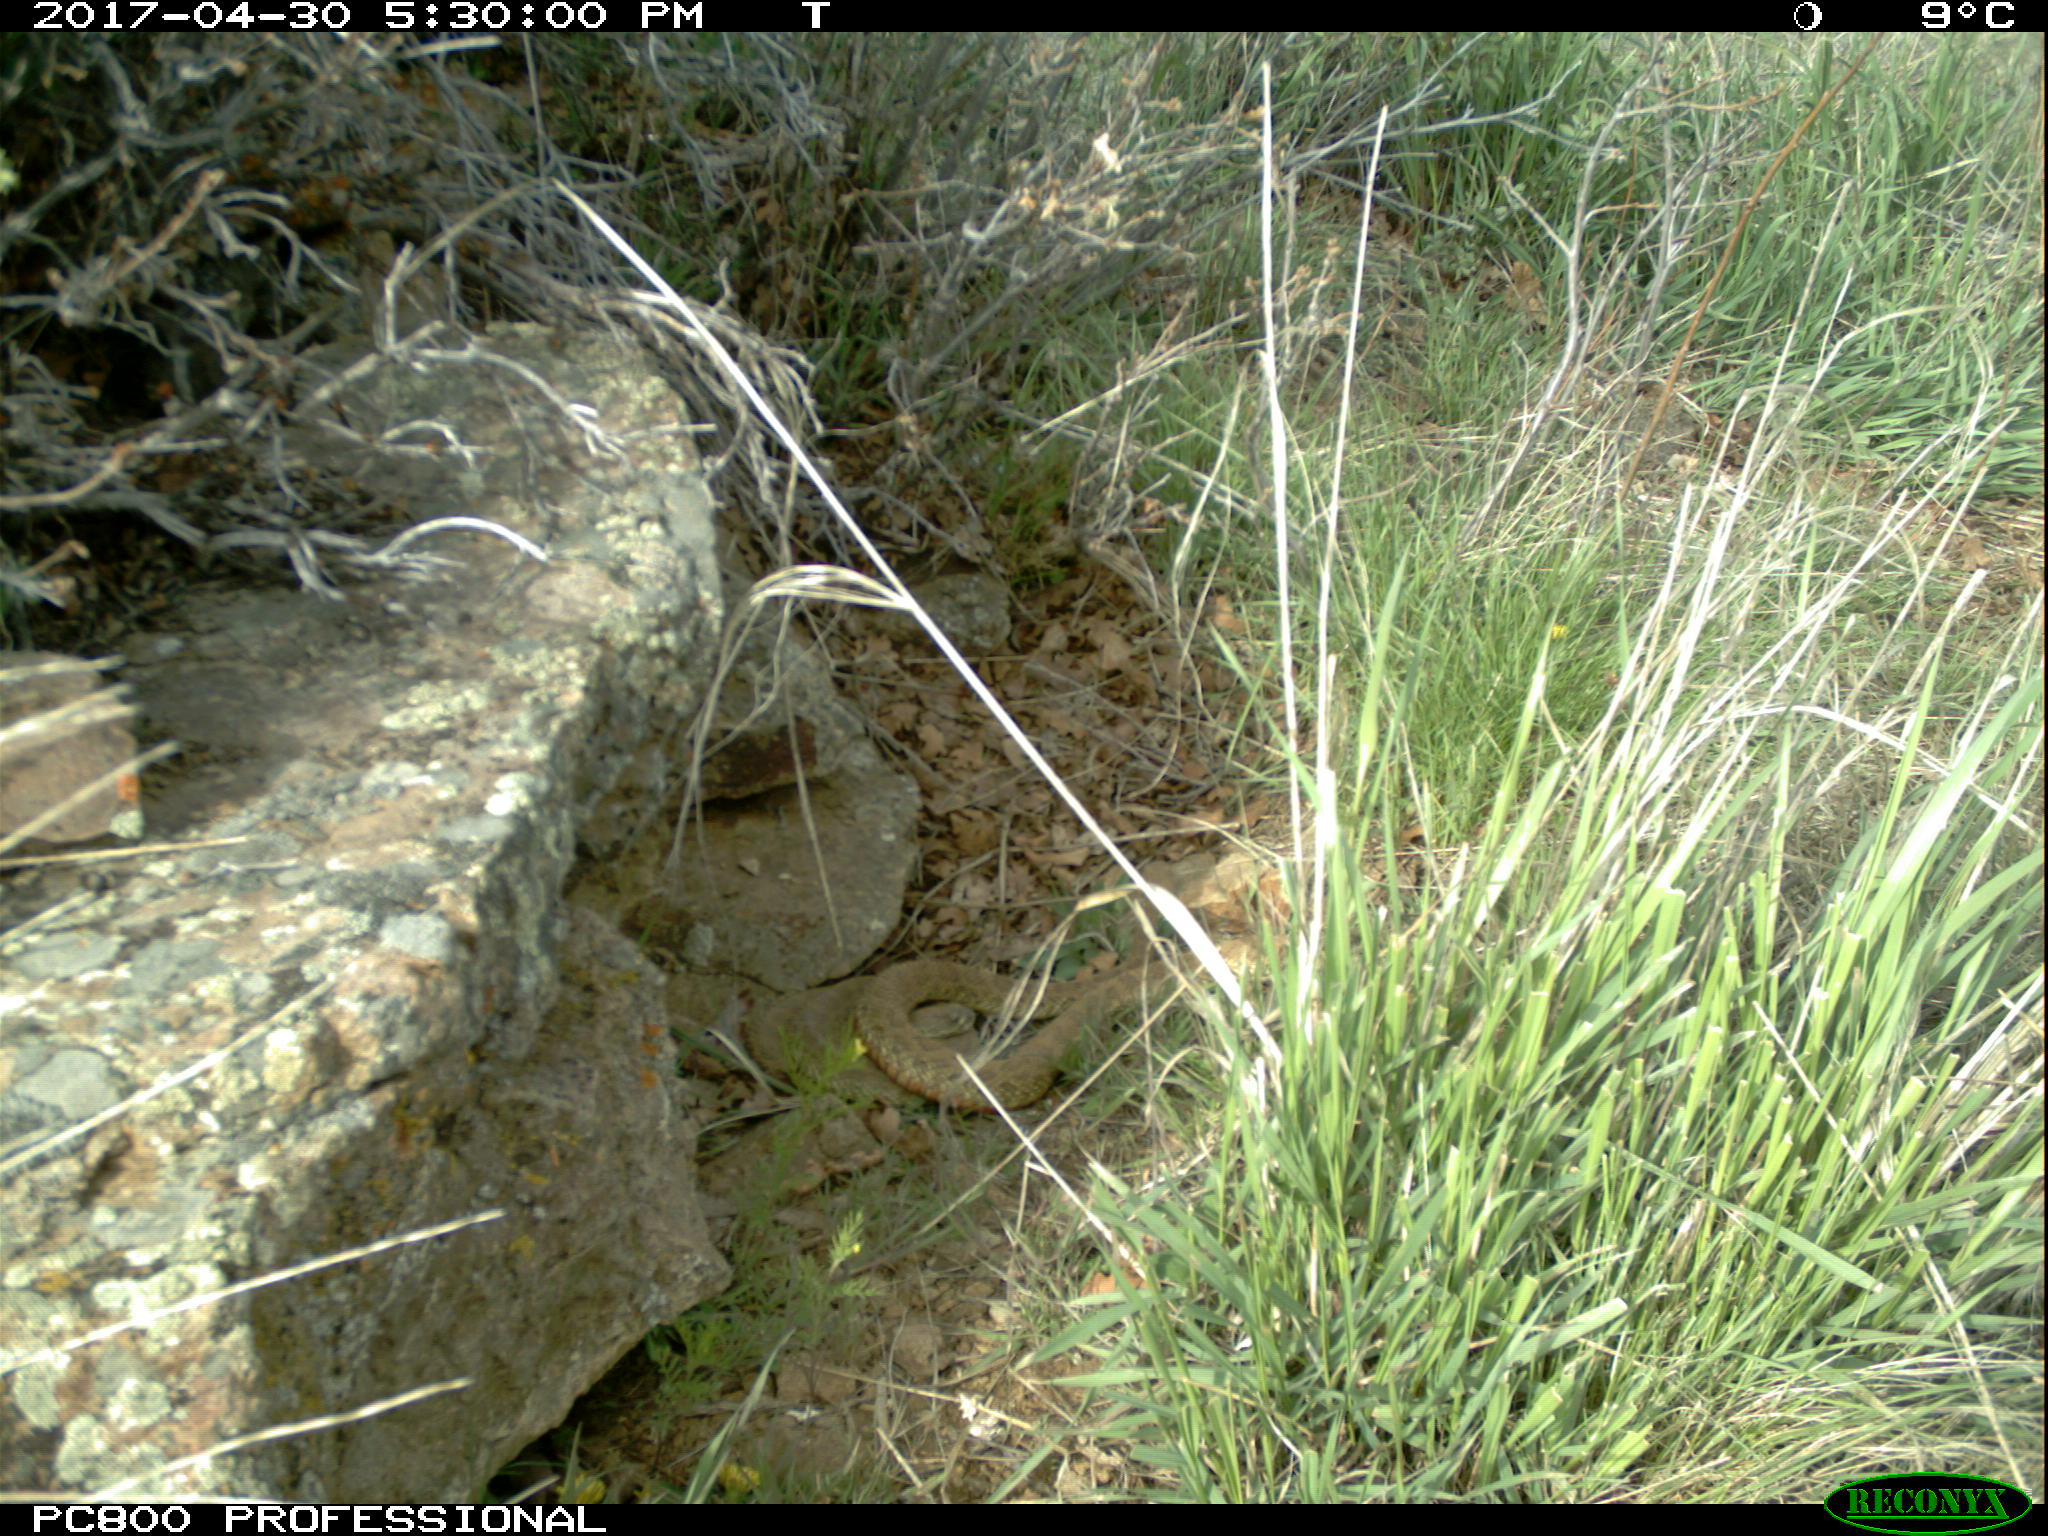snake: (853, 950, 1193, 1113)
